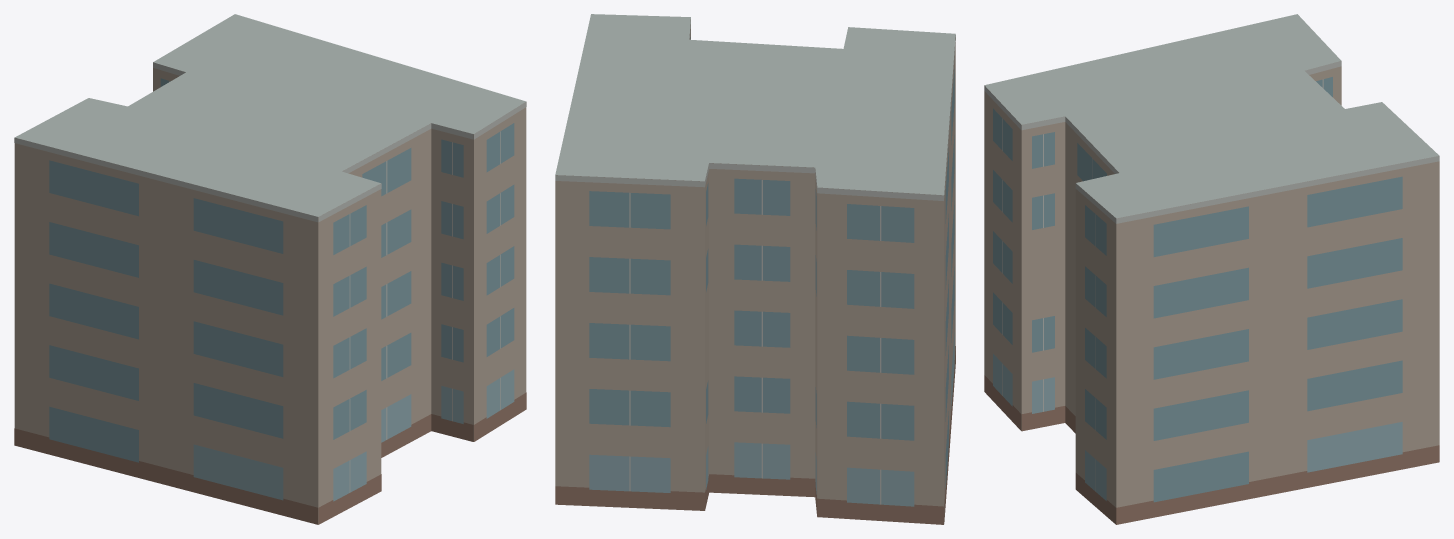
The model's file is survey-upis-32738972.glb.
3 views of the same model, side by side, from view 1: azimuth 30°, elevation 25°; view 2: azimuth 150°, elevation 25°; view 3: azimuth 270°, elevation 25° (orthographic). The views are drawn at different scales.
Visible parts, largest first — view 1: survey-upis-32738972.tmp; view 2: survey-upis-32738972.tmp; view 3: survey-upis-32738972.tmp.
Boxes of the visible parts, x1,y1,x2,y2 form: survey-upis-32738972.tmp: (14,14,526,524); survey-upis-32738972.tmp: (555,14,955,524); survey-upis-32738972.tmp: (984,14,1439,524).
Size of the model in its own units: 19.54 by 13.65 by 18.39.
